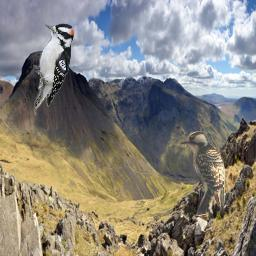Woodpecker: (33, 19, 78, 116), (179, 131, 225, 216)
